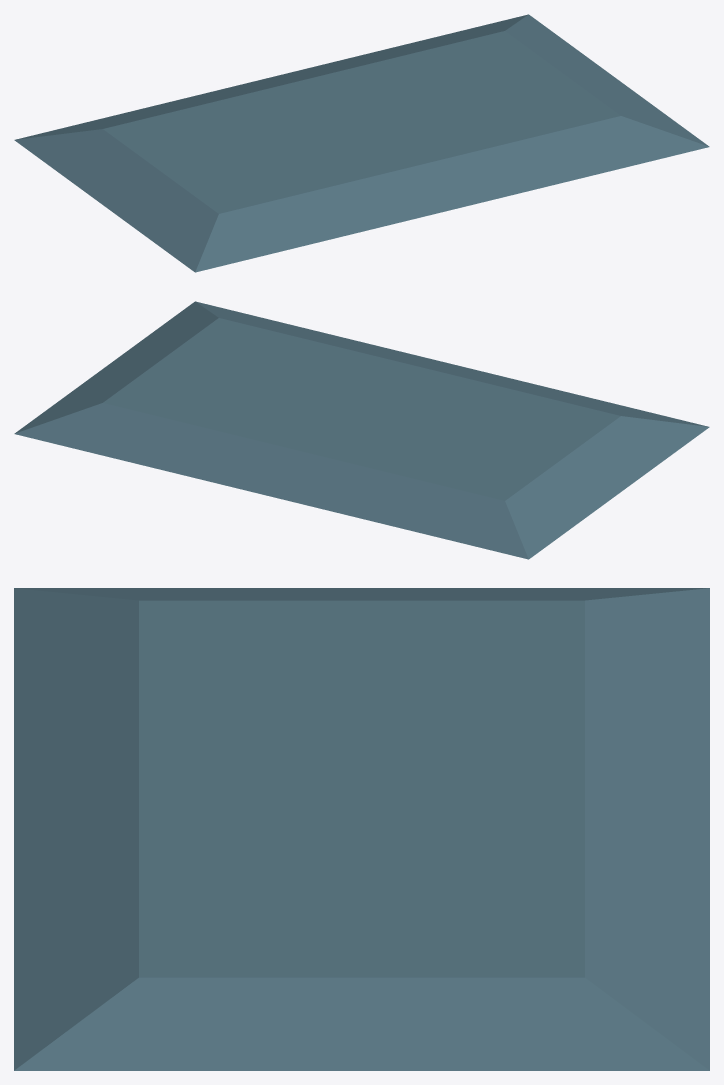
File: switch_rot6.gltf
The picture shows the model from 3 angles, top to bottom: view 1: azimuth 30°, elevation 25°; view 2: azimuth 150°, elevation 25°; view 3: azimuth 270°, elevation 25°; orthographic projection. The views are drawn at different scales.
Visible parts, largest first — view 1: switch.rot6; view 2: switch.rot6; view 3: switch.rot6.
Boxes of the visible parts, bbox=[...] form: switch.rot6: bbox=[14, 14, 709, 272]; switch.rot6: bbox=[14, 301, 709, 559]; switch.rot6: bbox=[14, 588, 709, 1070].
Size of the model in its own units: 2.56 by 0.1 by 1.56.
